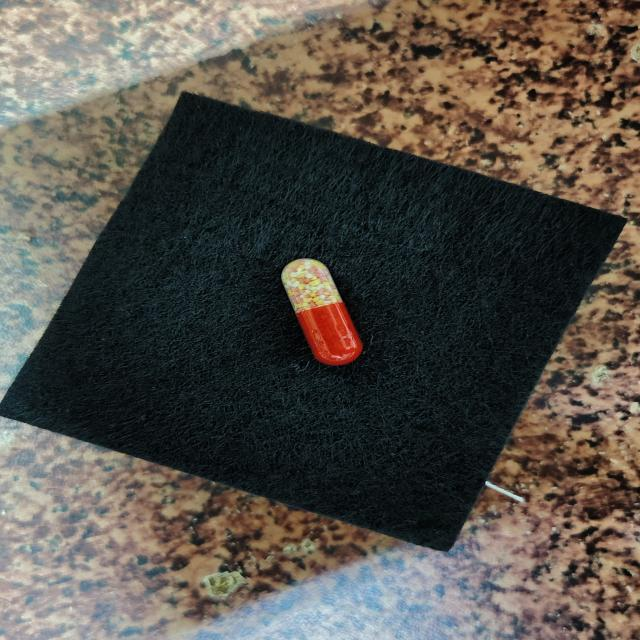Intact Capsule: (281, 258, 363, 365)
